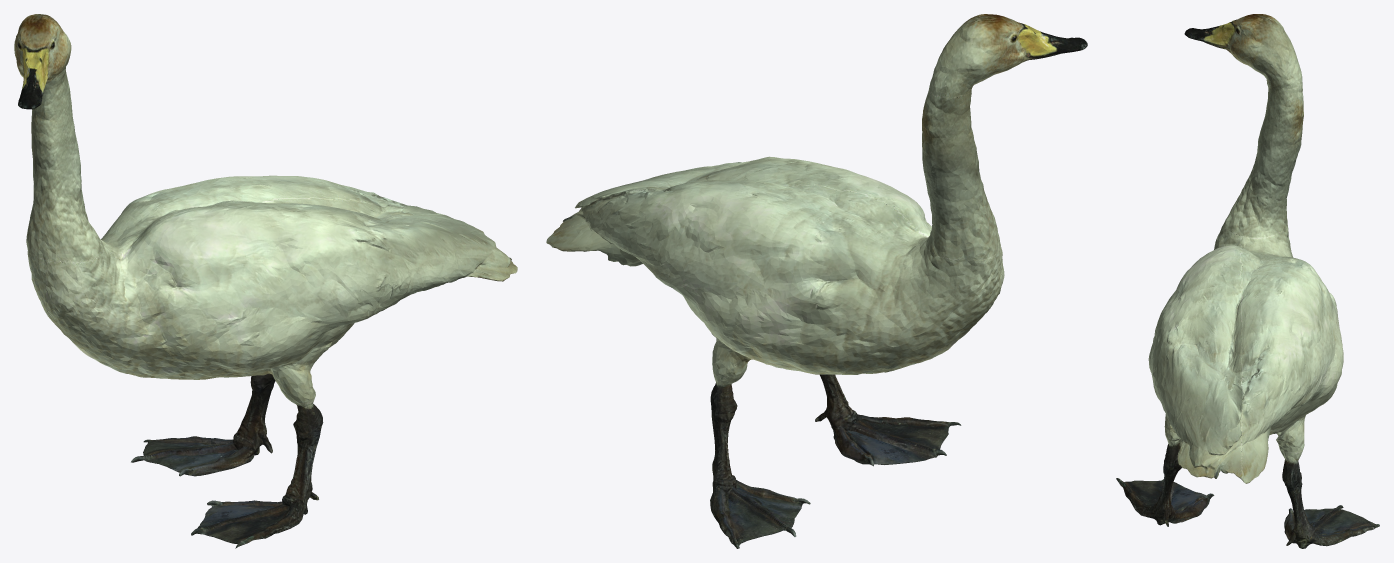
The model's file is Whooper swan.glb.
3 renders of one model, left to right at view 1: azimuth 30°, elevation 25°; view 2: azimuth 150°, elevation 25°; view 3: azimuth 270°, elevation 25°, orthographic. The views are drawn at different scales.
Parts seen in each view (by area): view 1: Group3600; view 2: Group3600; view 3: Group3600.
Boxes of the visible parts, bbox=[...] form: Group3600: bbox=[14, 14, 517, 548]; Group3600: bbox=[546, 14, 1087, 548]; Group3600: bbox=[1116, 14, 1379, 548].
Size of the model in its own units: 0.8175 by 0.8027 by 0.4389.
Materials: 1 (1 with a texture image).
